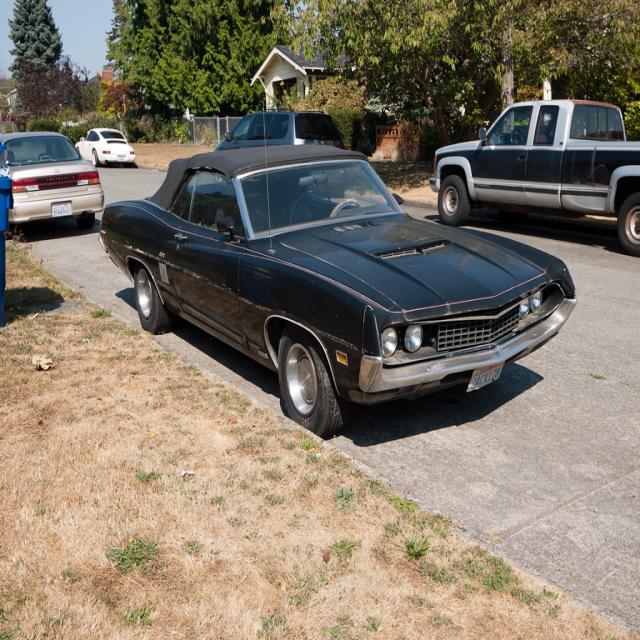Car: (99, 88, 576, 444), (0, 134, 105, 228), (213, 112, 344, 183), (75, 128, 135, 167)
